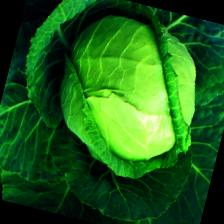cabbage: (36, 3, 212, 190)
